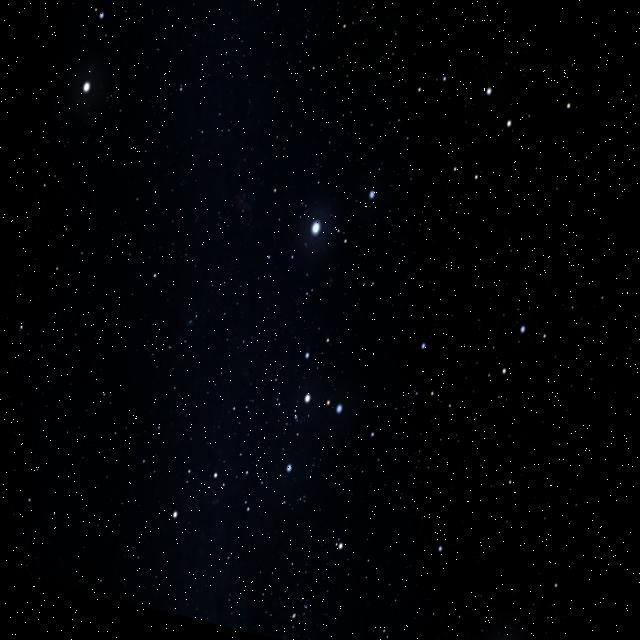Canis Major: (187, 163, 468, 523)
